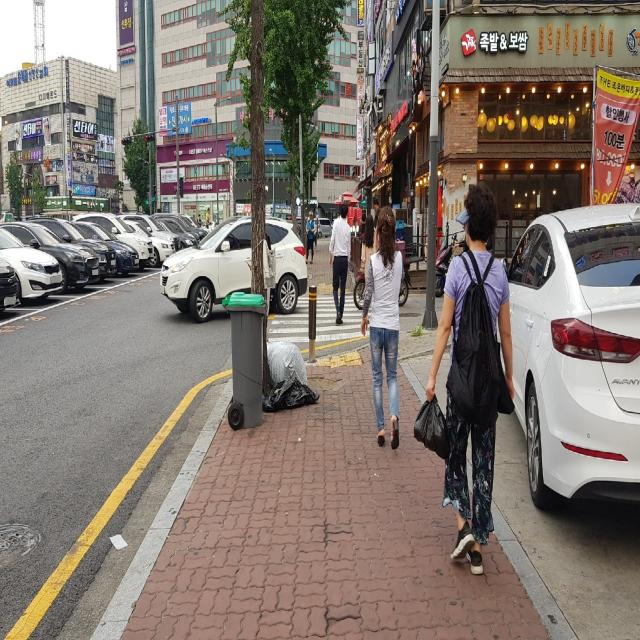횡단보도: (265, 293, 374, 345)
